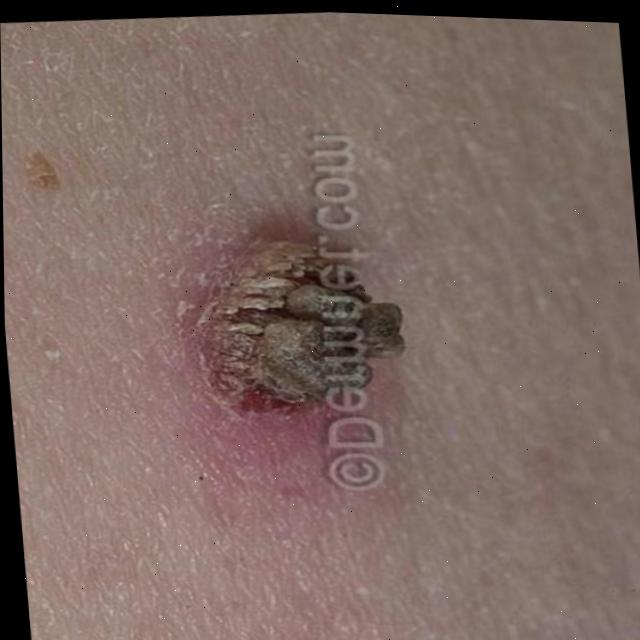Eczema: (185, 232, 341, 400)
